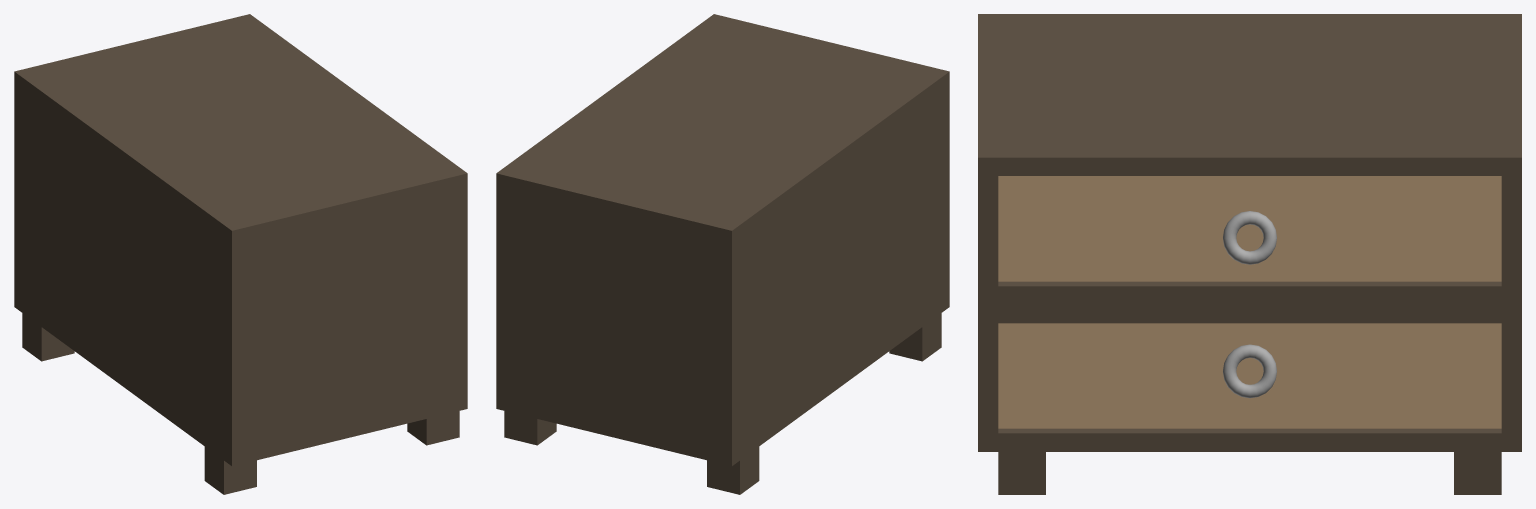
File: NightStand (1).fbx
3 renders of one model, left to right at view 1: azimuth 30°, elevation 25°; view 2: azimuth 150°, elevation 25°; view 3: azimuth 270°, elevation 25°, orthographic. The views are drawn at different scales.
Visible parts, largest first — view 1: polySurface3; view 2: polySurface3; view 3: polySurface3, polySurface2, pTorus3.
Part boxes in pixels (<box>): polySurface3: <box>14,14,467,494</box>; polySurface3: <box>496,14,949,494</box>; polySurface3: <box>978,14,1521,494</box>; polySurface2: <box>998,176,1501,428</box>; pTorus3: <box>1223,211,1276,398</box>.
Bounding box in the file's own units: 5.17 × 5.47 × 8.
